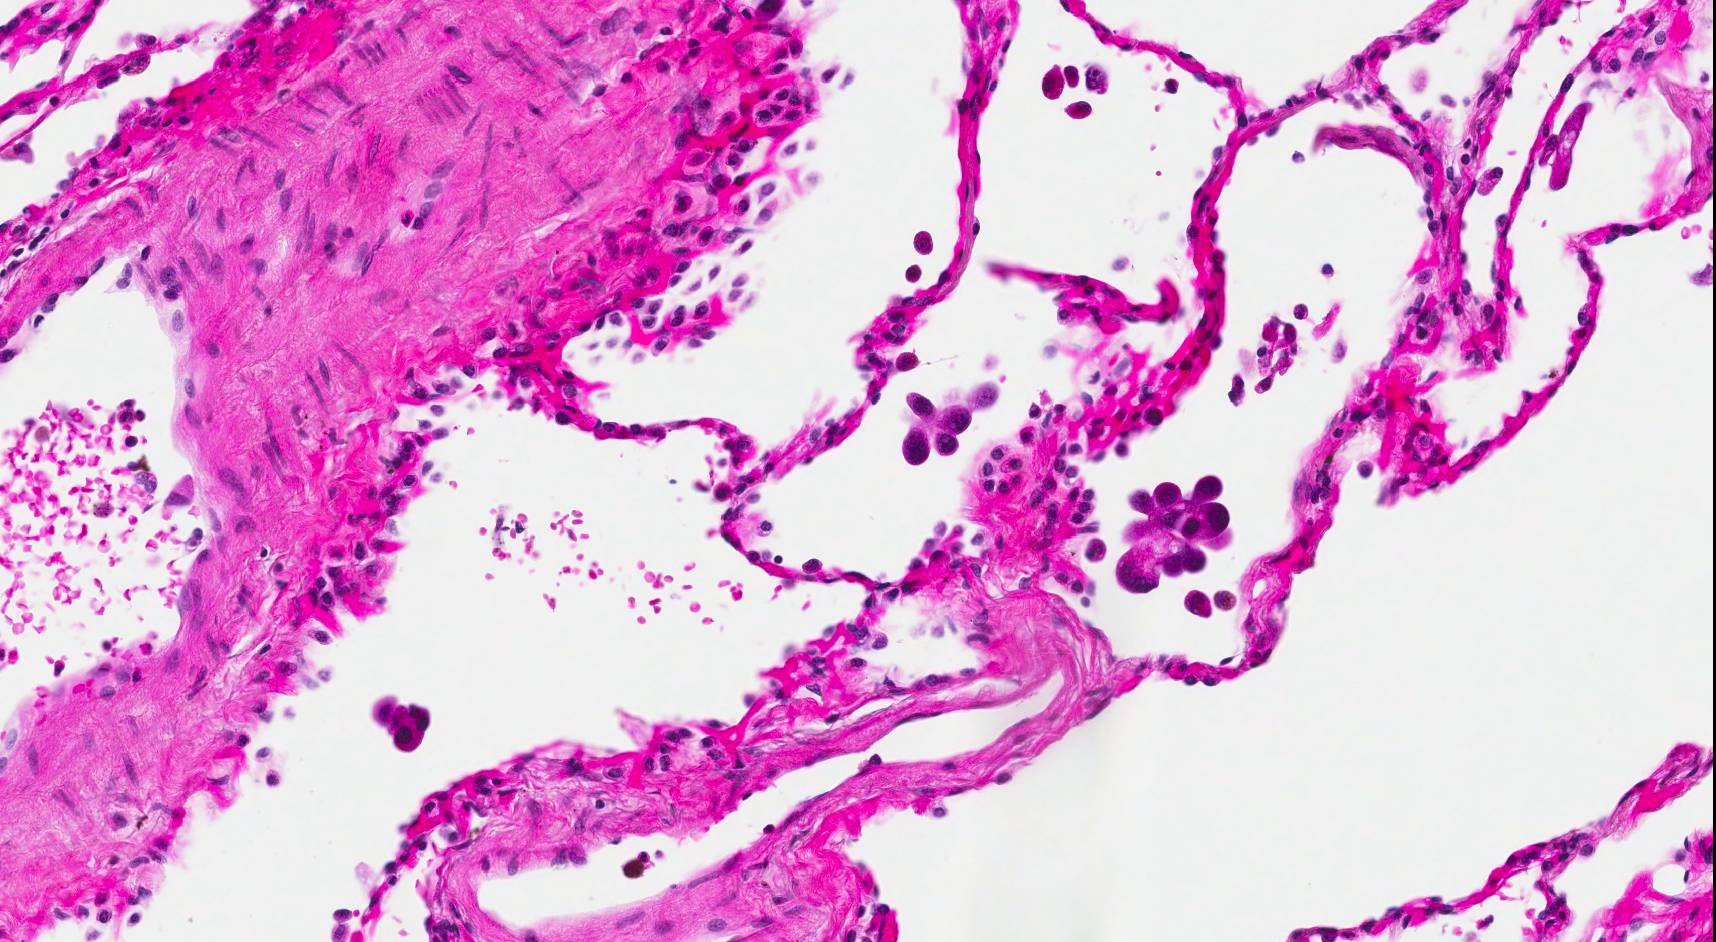stas: (1112, 474, 1236, 595), (899, 383, 1006, 465)
